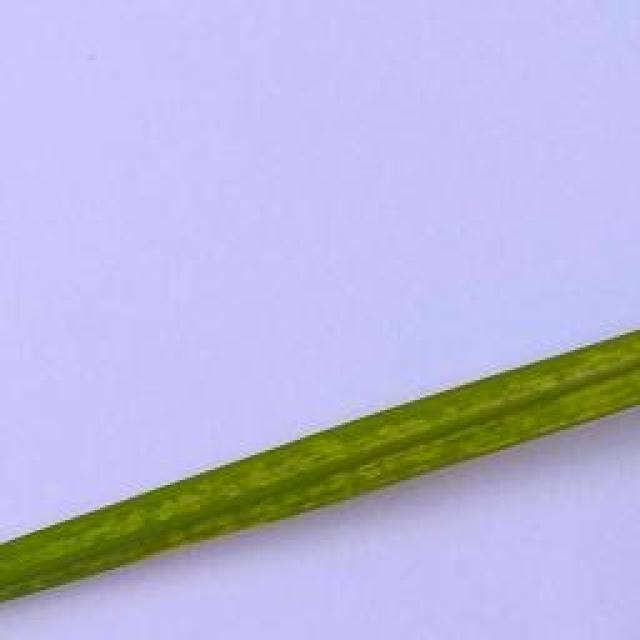Healthy-Plant: (0, 321, 640, 599)
